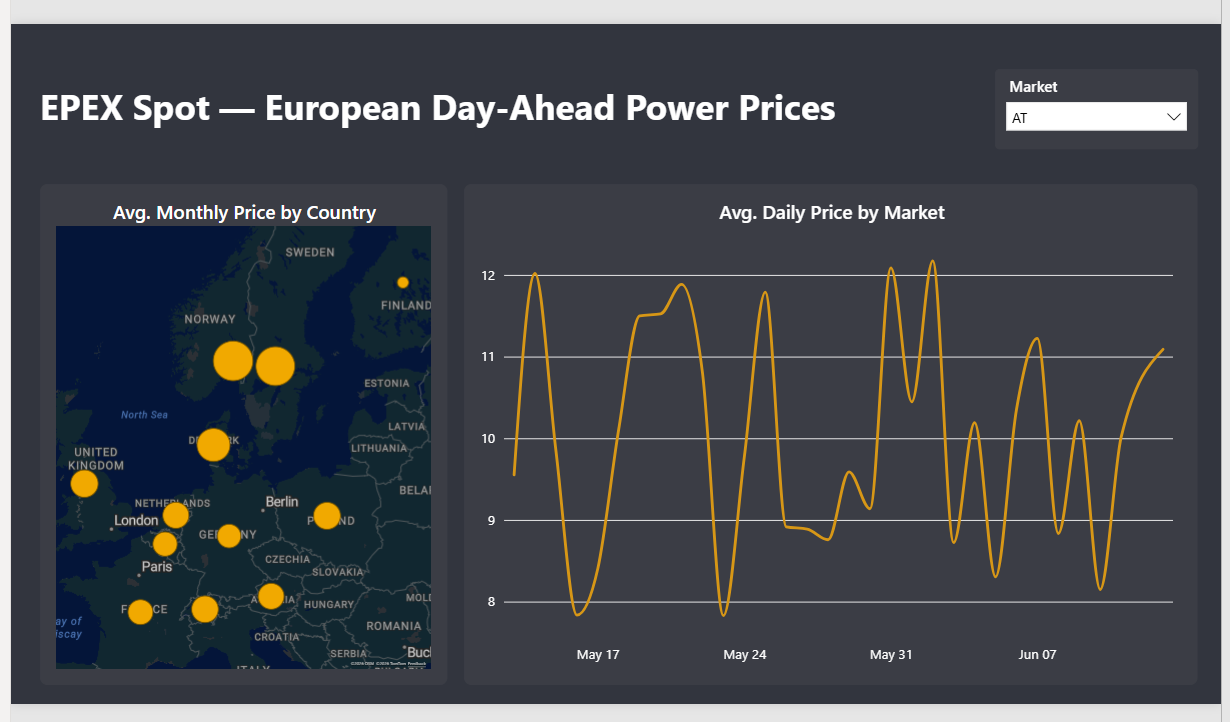

The page's visual inventory and layout, read from the dashboard file:
{"tool":"powerbi","page":{"name":"Europe Overview","canvas":[1280,720],"ordinal":0},"visuals":[{"type":"azureMap","title":"Avg. Monthly Price by Country","fields":{"Category":["mrt_avg_price_per_month.country"],"Size":["Sum(mrt_avg_price_per_month.avg_month_price)"]},"box":[30.7,169.3,430.5,530],"z":0},{"type":"areaChart","title":"Avg. Daily Price by Market","fields":{"Category":["mrt_avg_price_per_day.date"],"Series":["mrt_avg_price_per_day.market"],"Y":["Sum(mrt_avg_price_per_day.avg_day_price)"]},"box":[479.2,169.3,776.5,530],"z":1},{"type":"slicer","fields":{"Values":["mrt_avg_price_per_day.market"]},"box":[1040.9,47.6,214.7,84.6],"z":2},{"type":"textbox","box":[30.7,42.3,878,95.2],"z":3}]}

Visuals, with their boxes on the page's 1280x720 design canvas (x1, y1, x2, y2). These are canvas units, not pixel positions in the 1230x722 screenshot, which may show the page scaled, cropped or inside an application window:
"Avg. Monthly Price by Country" azureMap: (left=31, top=169, right=461, bottom=699)
"Avg. Daily Price by Market" areaChart: (left=479, top=169, right=1256, bottom=699)
slicer - mrt_avg_price_per_day.market: (left=1041, top=48, right=1256, bottom=132)
textbox: (left=31, top=42, right=909, bottom=138)
